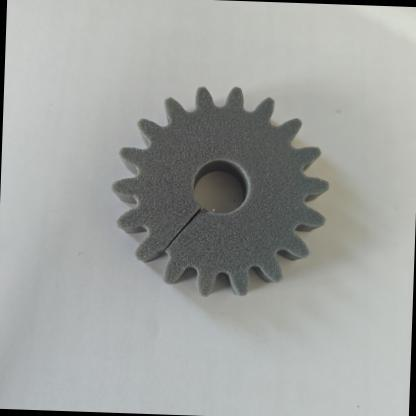defect: (128, 196, 220, 268)
gear: (95, 77, 365, 308)
